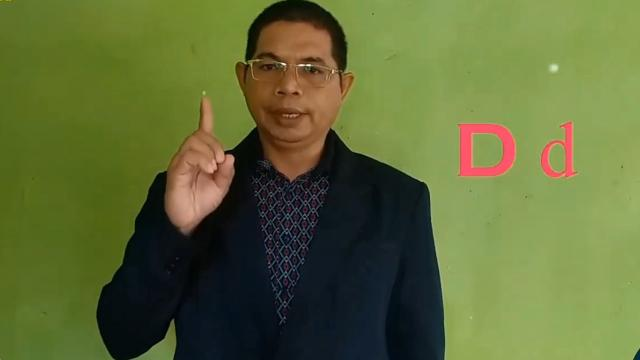D: (166, 97, 237, 225)
